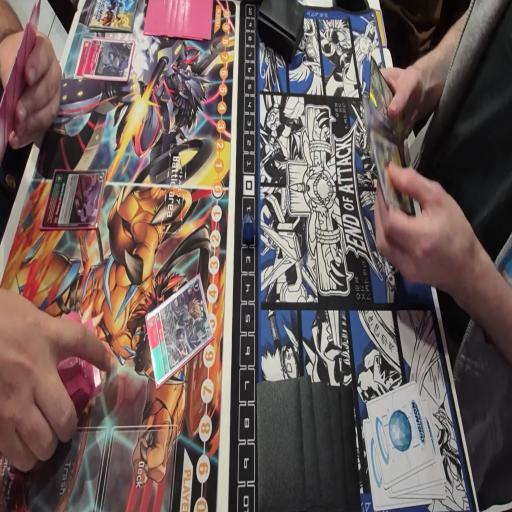card: (144, 272, 209, 393), (41, 171, 105, 235), (369, 124, 408, 212), (370, 51, 394, 141), (83, 44, 134, 77), (76, 37, 92, 76)
